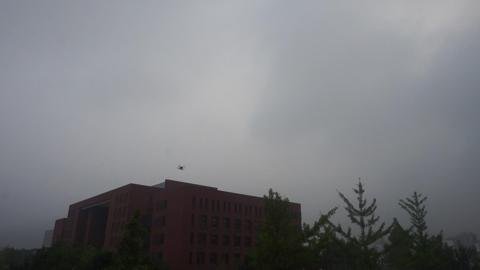UAV: (176, 165, 186, 171)
